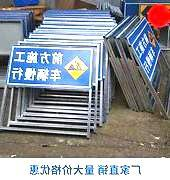sign: (12, 46, 92, 86), (135, 22, 155, 84)
